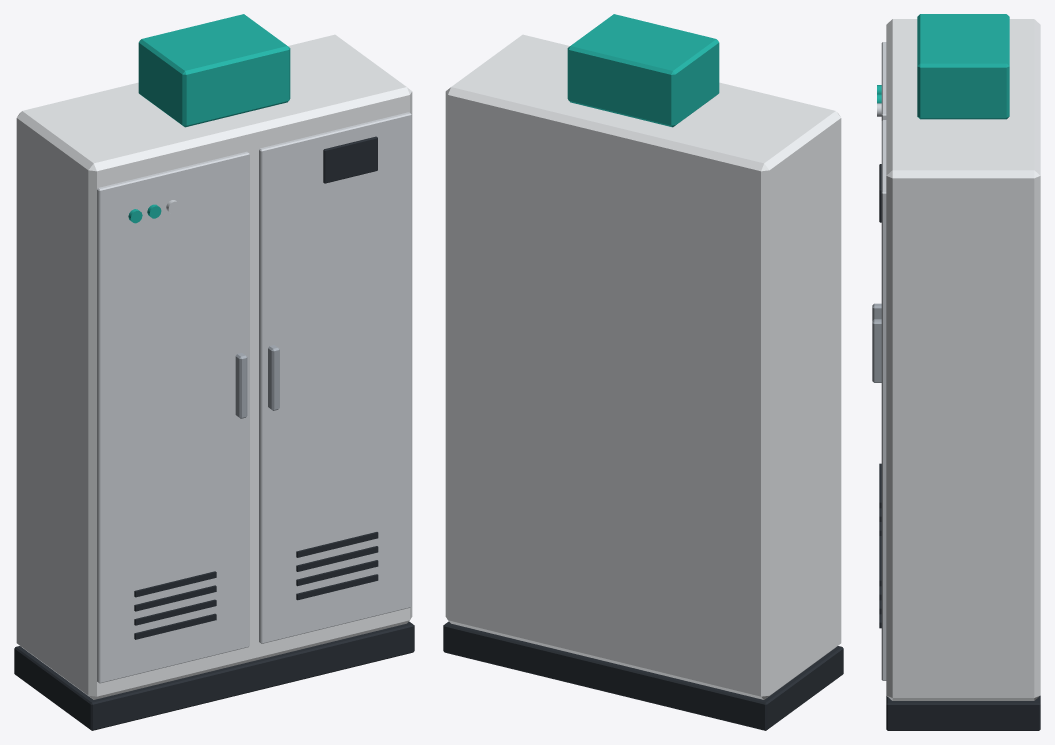
Rendered from electrical-cabinet.glb.
3 renders of one model, left to right at view 1: azimuth 30°, elevation 25°; view 2: azimuth 150°, elevation 25°; view 3: azimuth 270°, elevation 25°, orthographic.
Visible parts, largest first — view 1: electrical-cabinet; view 2: electrical-cabinet; view 3: electrical-cabinet.
Part boxes in pixels (box(x1,y1,x2,y2)): electrical-cabinet: box(14, 14, 414, 730); electrical-cabinet: box(443, 14, 843, 730); electrical-cabinet: box(872, 14, 1040, 730).
Bounding box in the file's own units: 1.2 × 2.2 × 0.545.
